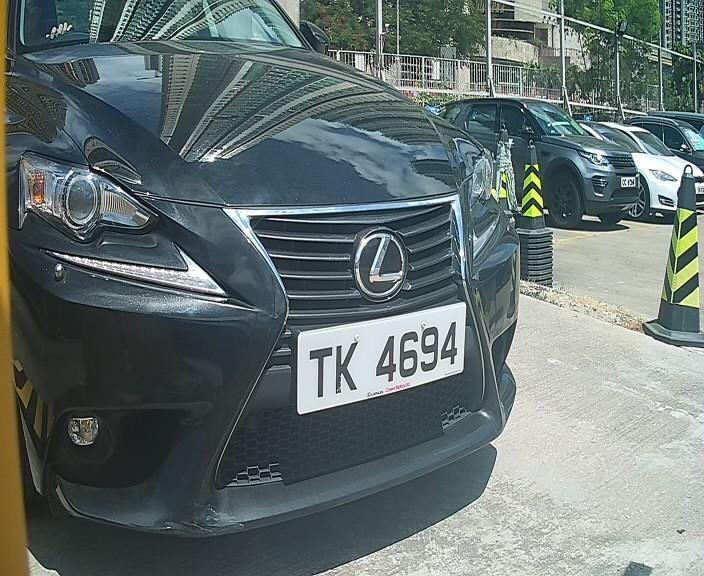privatecar: (1, 19, 563, 533)
